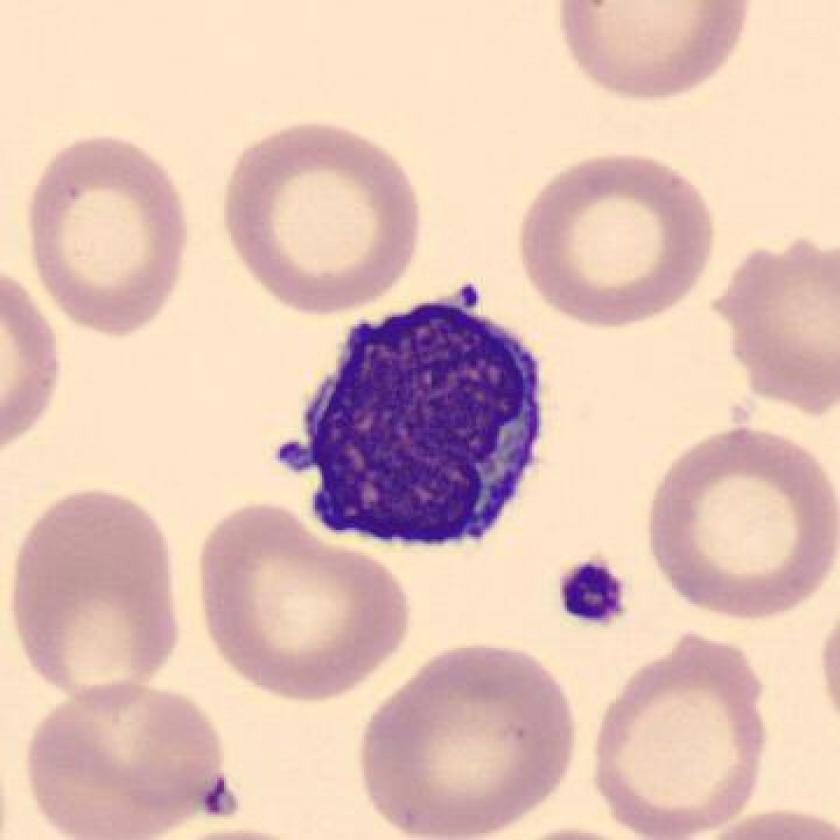lymphocyte: (267, 270, 566, 573)
